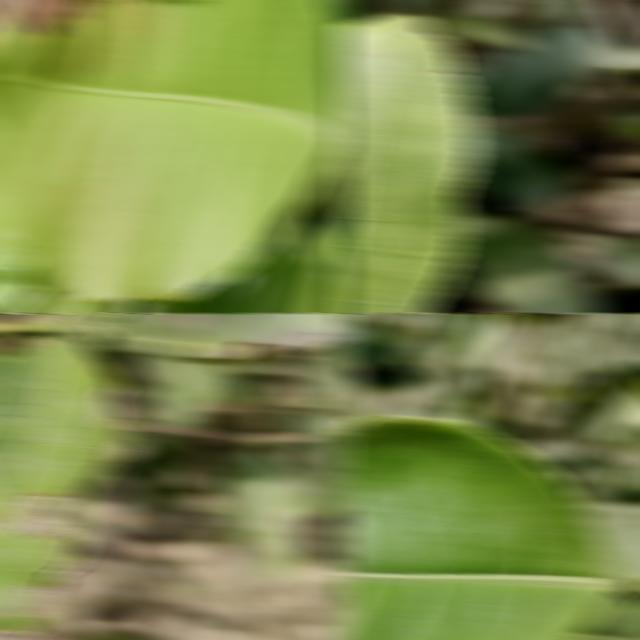Leaf: (0, 0, 345, 301), (338, 414, 635, 640), (338, 14, 478, 313), (0, 333, 130, 640), (457, 218, 605, 313), (460, 25, 604, 115), (213, 446, 308, 581), (102, 313, 352, 360), (260, 217, 342, 313), (128, 354, 224, 425), (576, 501, 640, 578), (121, 435, 181, 506), (585, 373, 640, 441), (338, 319, 409, 366), (564, 597, 640, 640), (428, 313, 499, 356), (314, 390, 352, 433), (81, 628, 164, 640)
